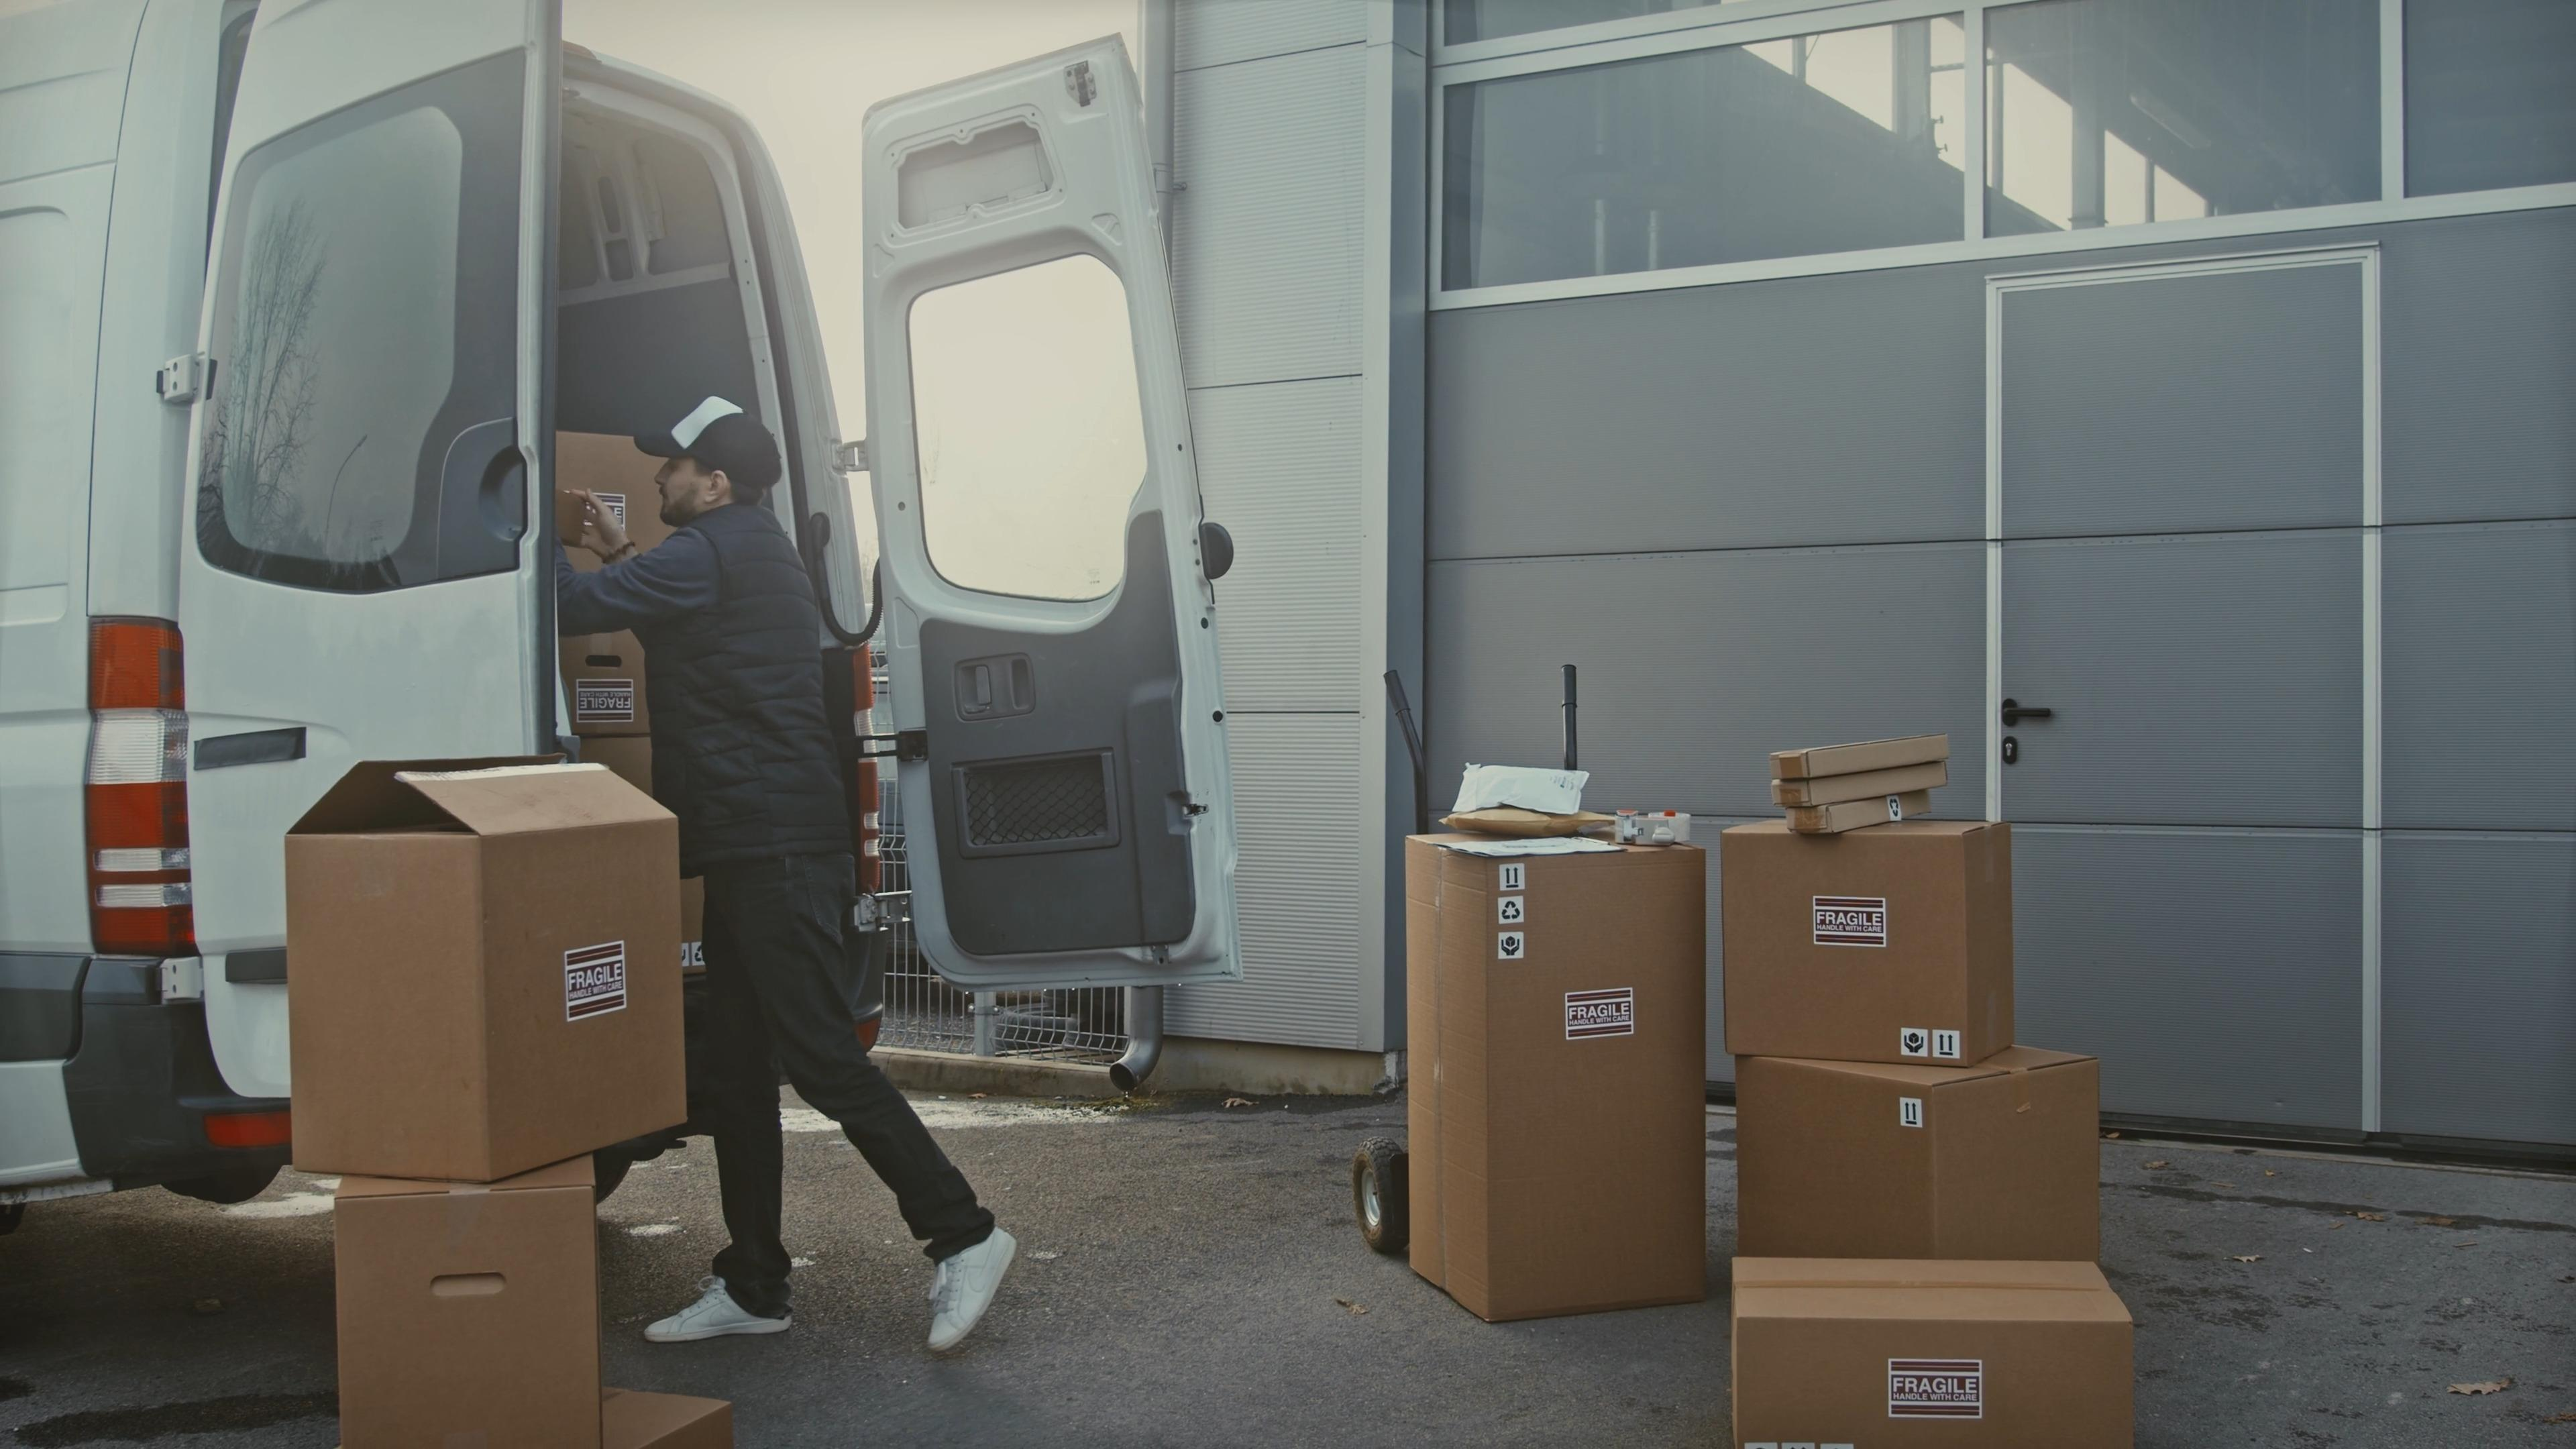-: (283, 770, 692, 1177), (1407, 823, 1721, 1332), (1721, 1246, 2125, 1449), (1718, 826, 2008, 1079), (333, 1178, 593, 1449), (1752, 1063, 2100, 1261), (1918, 1246, 1936, 1249)
